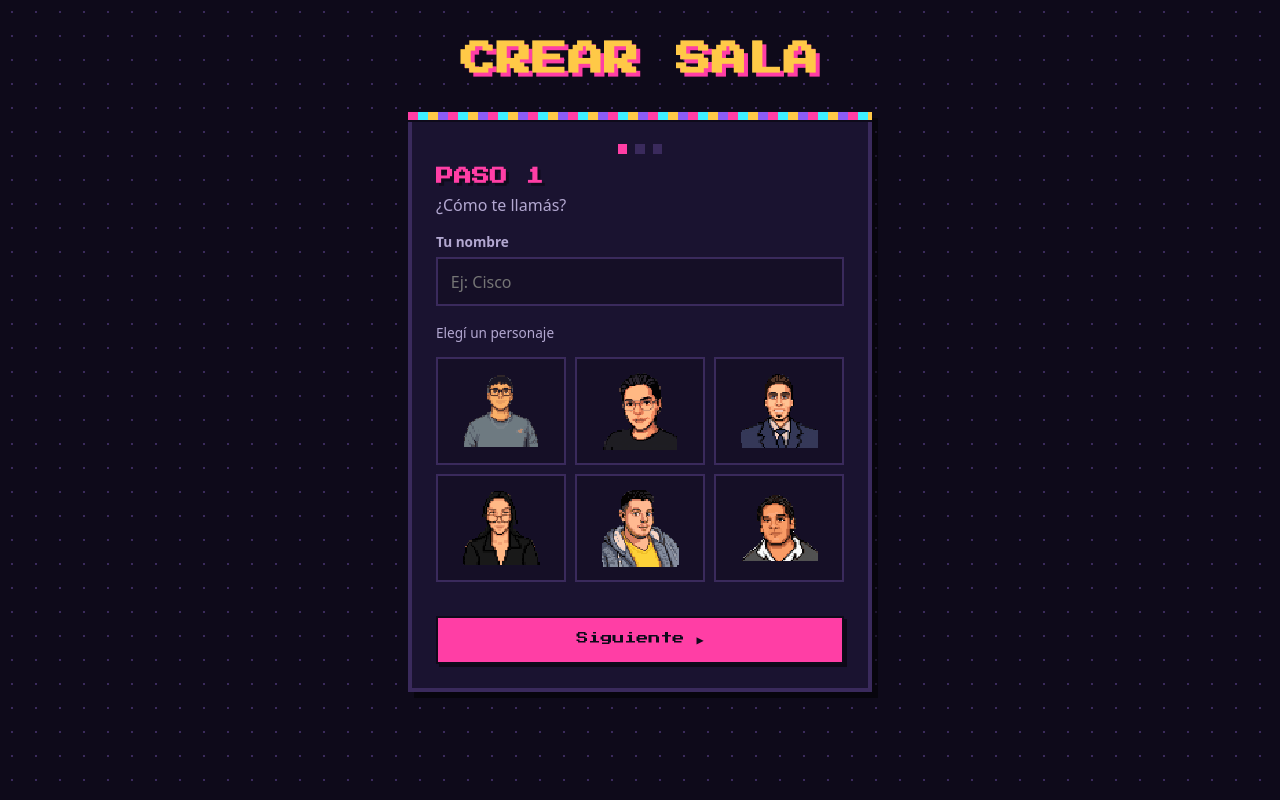
Test: CreateRoomPage — formulario no envía vacío › avanza al paso 2 (duraciones) con nombre válido
Type "Cisco" into the field labelled "Tu nombre" at (640, 282), box [436,257,844,306]
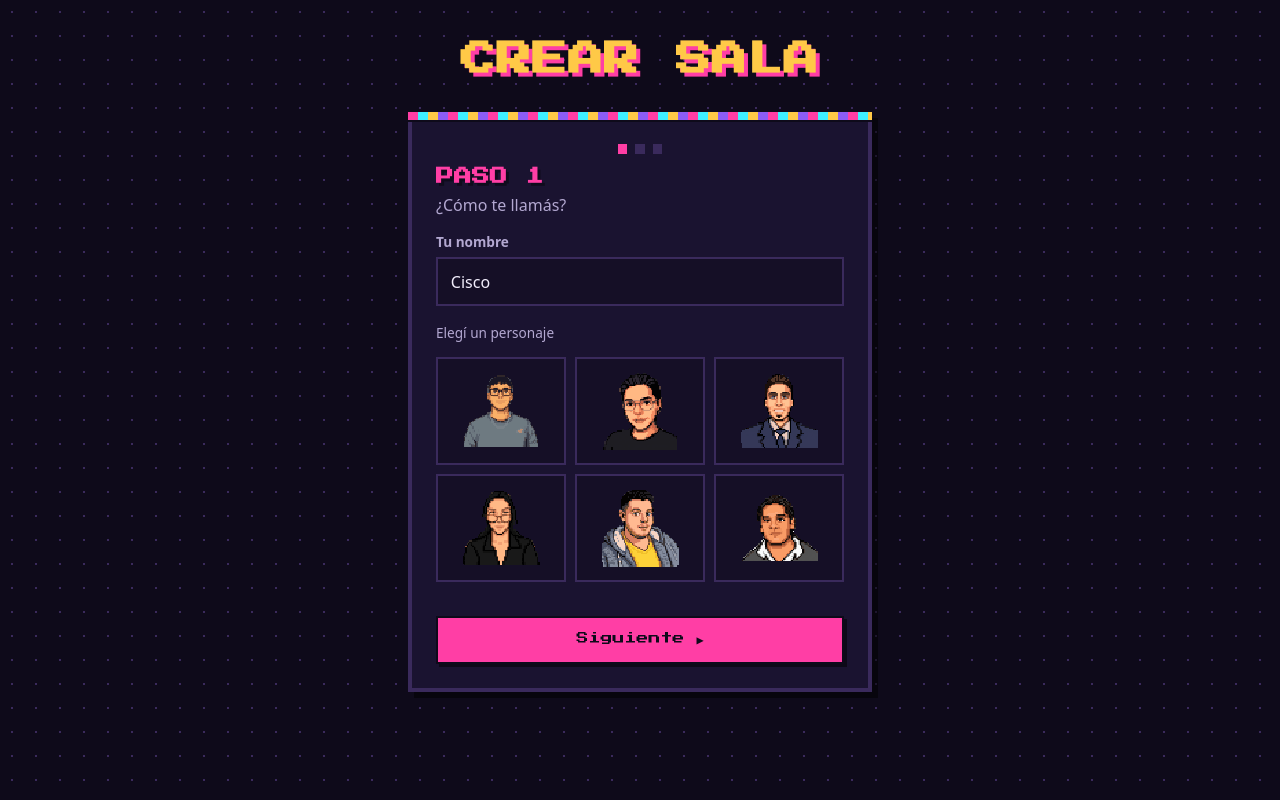
Click the button named "Cisco" at (501, 411), box [436,357,566,465]
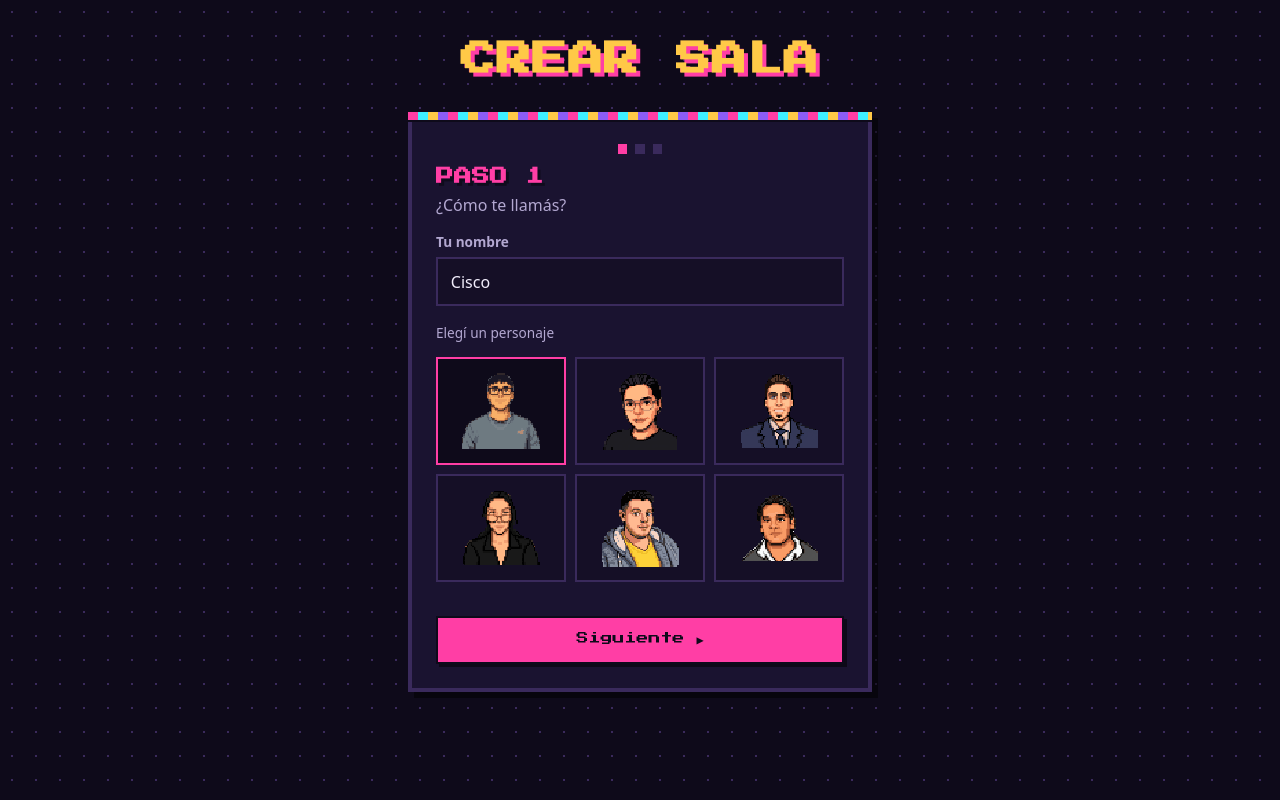
Click the button "Siguiente ▶" at (640, 640), box [436,616,844,664]
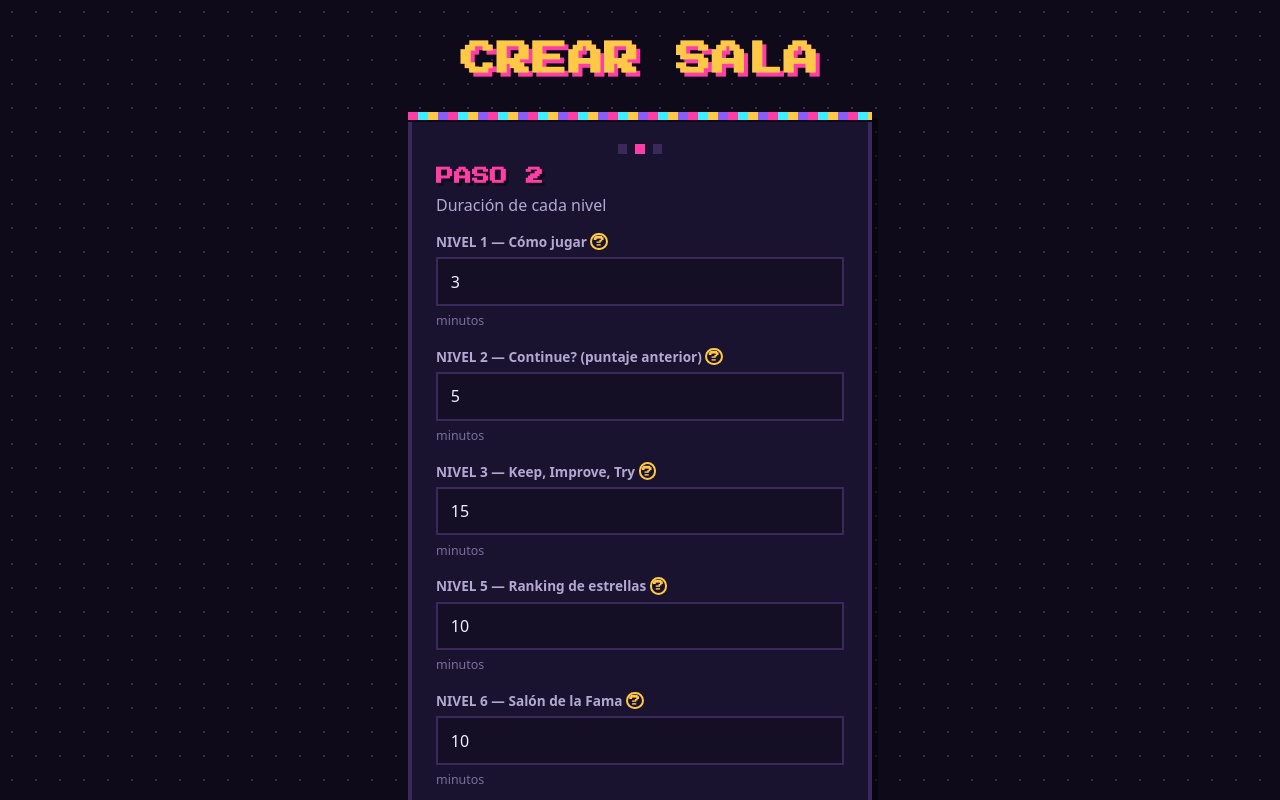
Expected: the text "Duración de cada nivel" is shown, [436,194,606,216]
